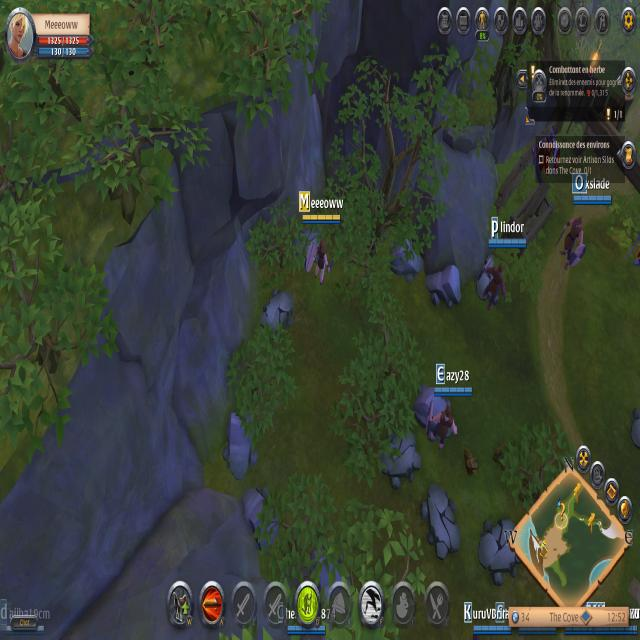broken stone: (417, 473, 463, 566), (476, 507, 522, 586), (378, 427, 422, 492), (260, 284, 297, 344)
stone: (219, 404, 257, 482), (242, 478, 280, 550), (424, 261, 466, 314), (387, 229, 425, 286)
